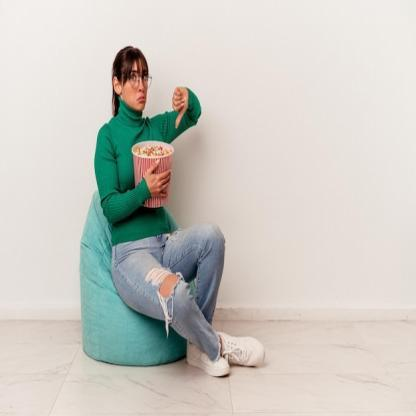thumb_down: (170, 81, 191, 130)
